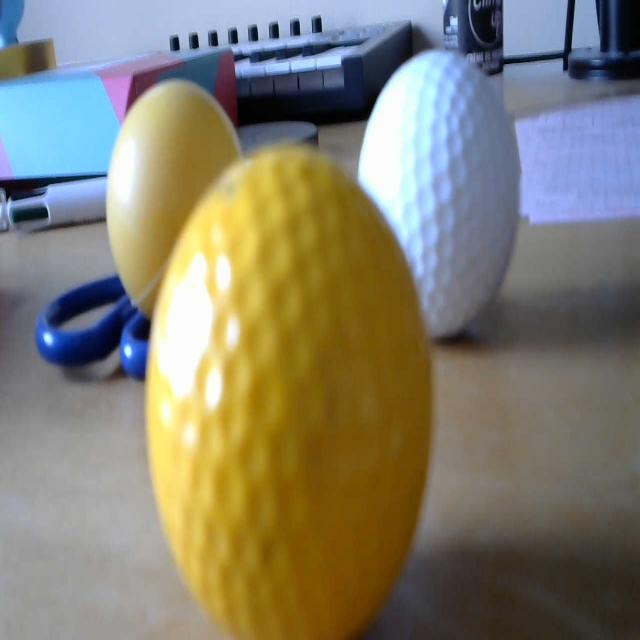golfball: (139, 135, 442, 640), (353, 32, 524, 341), (101, 74, 252, 340)
